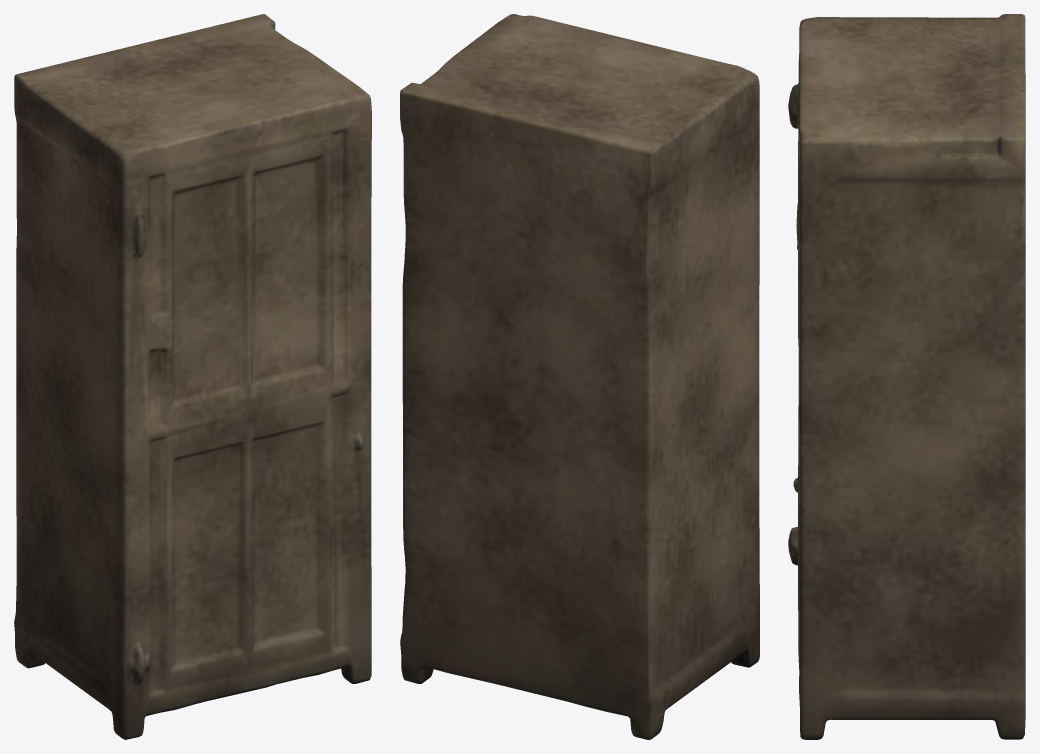
The model's file is plain-wood-cell-door-v001.glb.
3 views of the same model, side by side, from view 1: azimuth 30°, elevation 25°; view 2: azimuth 150°, elevation 25°; view 3: azimuth 270°, elevation 25° (orthographic). The views are drawn at different scales.
Visible parts, largest first — view 1: plain-wood-cell-door; view 2: plain-wood-cell-door; view 3: plain-wood-cell-door.
Part boxes in pixels (box(x1,y1,x2,y2)): plain-wood-cell-door: box(14, 14, 371, 739); plain-wood-cell-door: box(400, 14, 759, 739); plain-wood-cell-door: box(788, 14, 1025, 739).
Size of the model in its own units: 0.9638 by 2.15 by 0.7665.
1 material, 1 textured.
